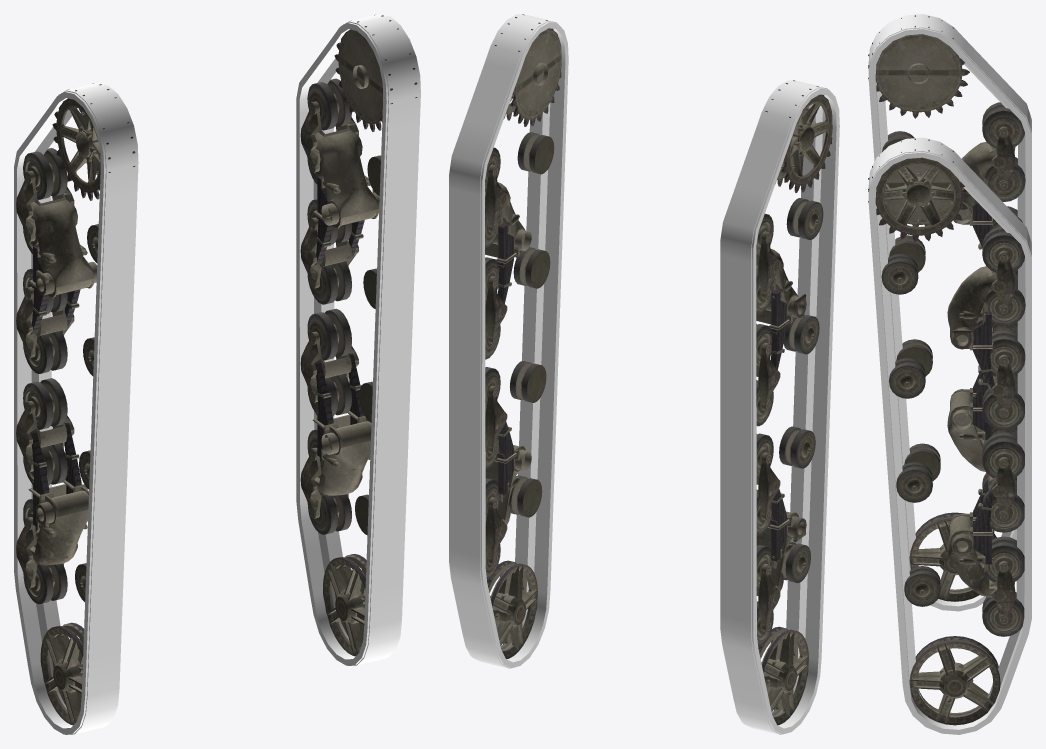
File: Chassis.glb
The picture shows the model from 3 angles, left to right: view 1: azimuth 30°, elevation 25°; view 2: azimuth 150°, elevation 25°; view 3: azimuth 270°, elevation 25°; orthographic projection. The views are drawn at different scales.
Parts seen in each view (by area): view 1: set_0_group_0, set_1_group_0, set_3_group_0, set_2_group_0; view 2: set_1_group_0, set_0_group_0, set_2_group_0, set_3_group_0; view 3: set_3_group_0, set_2_group_0, set_0_group_0, set_1_group_0.
Boxes of the visible parts, x1=… form: set_0_group_0: x1=296, y1=14, x2=420, y2=665; set_1_group_0: x1=14, y1=83, x2=138, y2=734; set_3_group_0: x1=300, y1=14, x2=417, y2=656; set_2_group_0: x1=16, y1=83, x2=135, y2=725; set_1_group_0: x1=720, y1=80, x2=839, y2=734; set_0_group_0: x1=449, y1=14, x2=568, y2=668; set_2_group_0: x1=756, y1=80, x2=832, y2=725; set_3_group_0: x1=485, y1=14, x2=561, y2=658; set_3_group_0: x1=868, y1=138, x2=1025, y2=725; set_2_group_0: x1=868, y1=15, x2=1025, y2=601; set_0_group_0: x1=868, y1=137, x2=1031, y2=734; set_1_group_0: x1=868, y1=14, x2=1031, y2=611.
Size of the model in its own units: 2.45 by 4.47 by 1.14.
4 materials, 2 textured.
